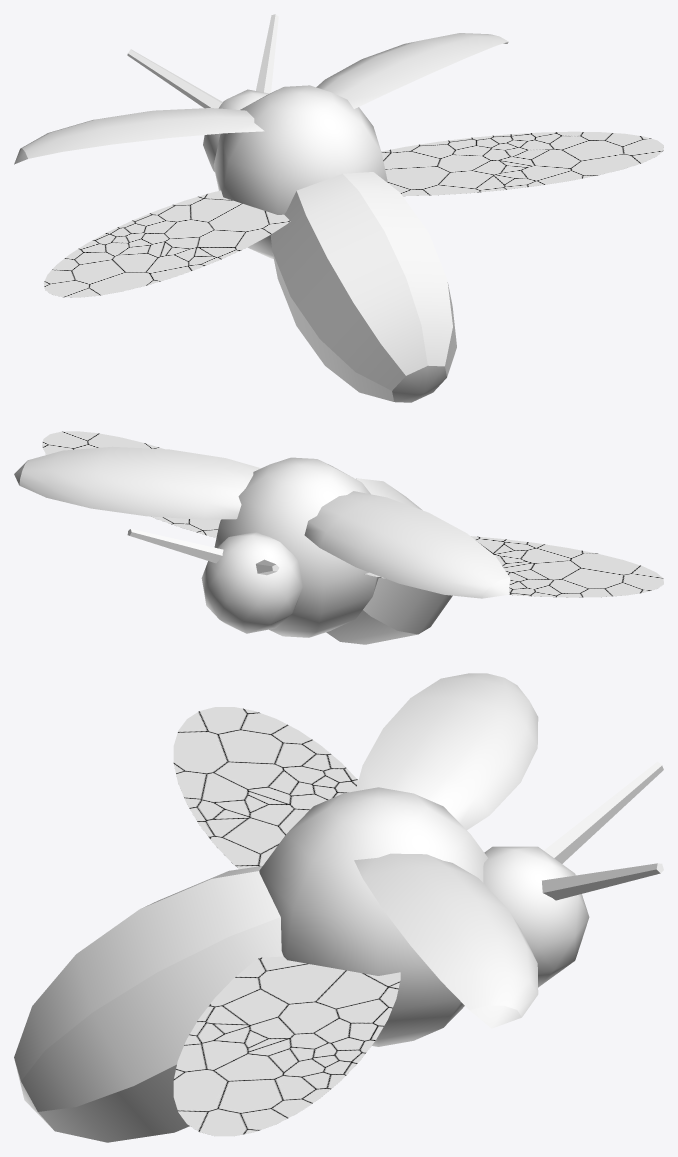
Rendered from firefly.obj.
The picture shows the model from 3 angles, top to bottom: view 1: azimuth 30°, elevation 25°; view 2: azimuth 150°, elevation 25°; view 3: azimuth 270°, elevation 25°; orthographic projection. The views are drawn at different scales.
Parts seen in each view (by area): view 1: Sphere.001, Sphere.002, Cylinder, Cylinder.003, Sphere, Sphere.003, Cylinder.001, Icosphere, Cylinder.002; view 2: Sphere.003, Sphere, Sphere.002, Icosphere, Cylinder, Sphere.001, Cylinder.003, Cylinder.002; view 3: Sphere.001, Sphere.002, Cylinder.003, Cylinder, Sphere, Sphere.003, Icosphere, Cylinder.001, Cylinder.002.
Boxes of the visible parts, bbox=[...] form: Sphere.001: bbox=[270, 172, 456, 402]; Sphere.002: bbox=[213, 85, 387, 259]; Cylinder: bbox=[43, 190, 290, 297]; Cylinder.003: bbox=[381, 131, 663, 196]; Sphere: bbox=[14, 108, 264, 164]; Sphere.003: bbox=[316, 33, 508, 108]; Cylinder.001: bbox=[127, 49, 222, 108]; Icosphere: bbox=[203, 89, 269, 171]; Cylinder.002: bbox=[256, 14, 278, 93]; Sphere.003: bbox=[14, 446, 260, 519]; Sphere: bbox=[304, 491, 509, 598]; Sphere.002: bbox=[214, 457, 378, 637]; Icosphere: bbox=[201, 532, 302, 633]; Cylinder: bbox=[365, 536, 663, 597]; Sphere.001: bbox=[326, 478, 452, 644]; Cylinder.003: bbox=[42, 431, 220, 537]; Cylinder.002: bbox=[127, 529, 223, 563]; Sphere.001: bbox=[14, 866, 283, 1142]; Sphere.002: bbox=[259, 787, 487, 1046]; Cylinder.003: bbox=[173, 956, 400, 1136]; Cylinder: bbox=[173, 707, 358, 869]; Sphere: bbox=[355, 673, 538, 829]; Sphere.003: bbox=[354, 853, 538, 1028]; Icosphere: bbox=[483, 846, 589, 987]; Cylinder.001: bbox=[544, 761, 663, 863]; Cylinder.002: bbox=[542, 863, 663, 900].
Size of the model in its own units: 2.23 by 0.8157 by 1.42.
4 materials, 4 textured.
